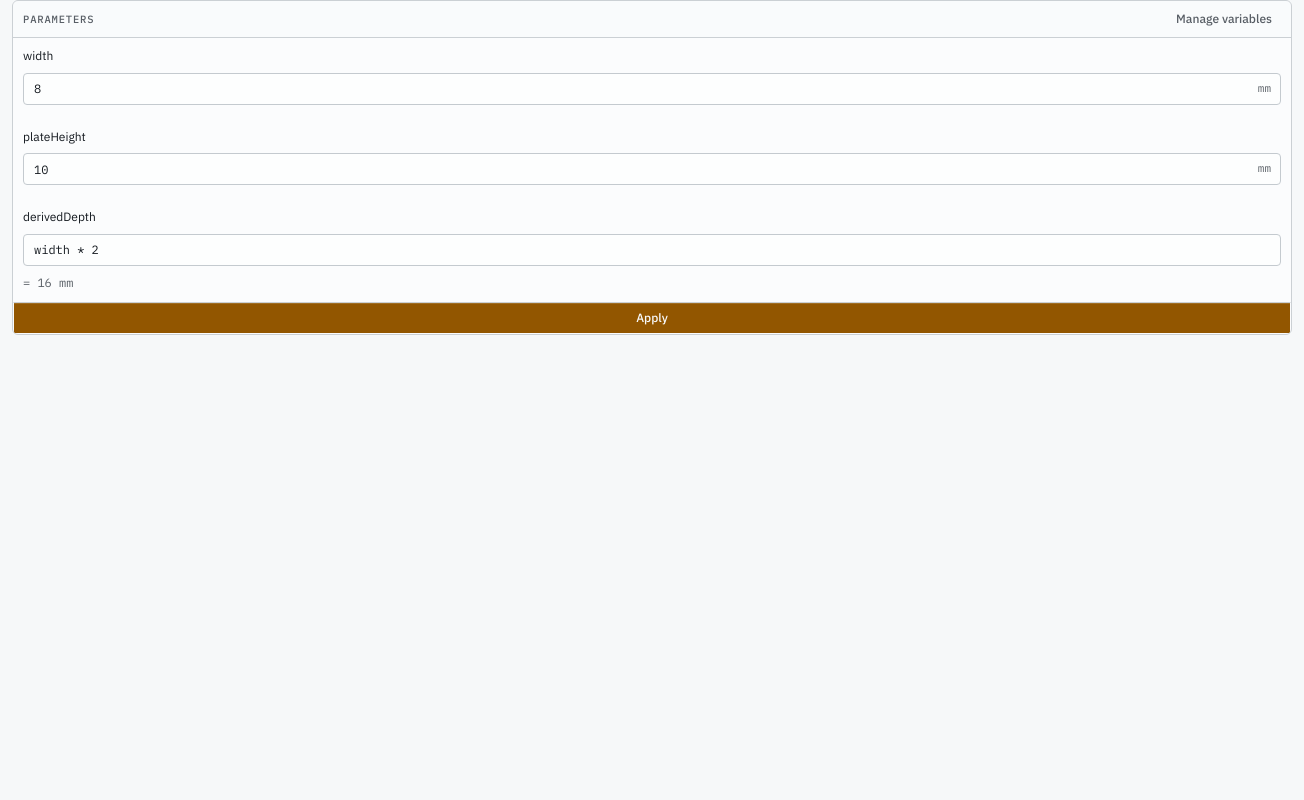
CadParameterManager expression editing › keeps a negated reference's sign through the pick (Phase 32b)
The width and height of the screenshot is (1304, 800).
Click the button "Manage variables": click(1224, 19) 1167,7 -> 1281,31
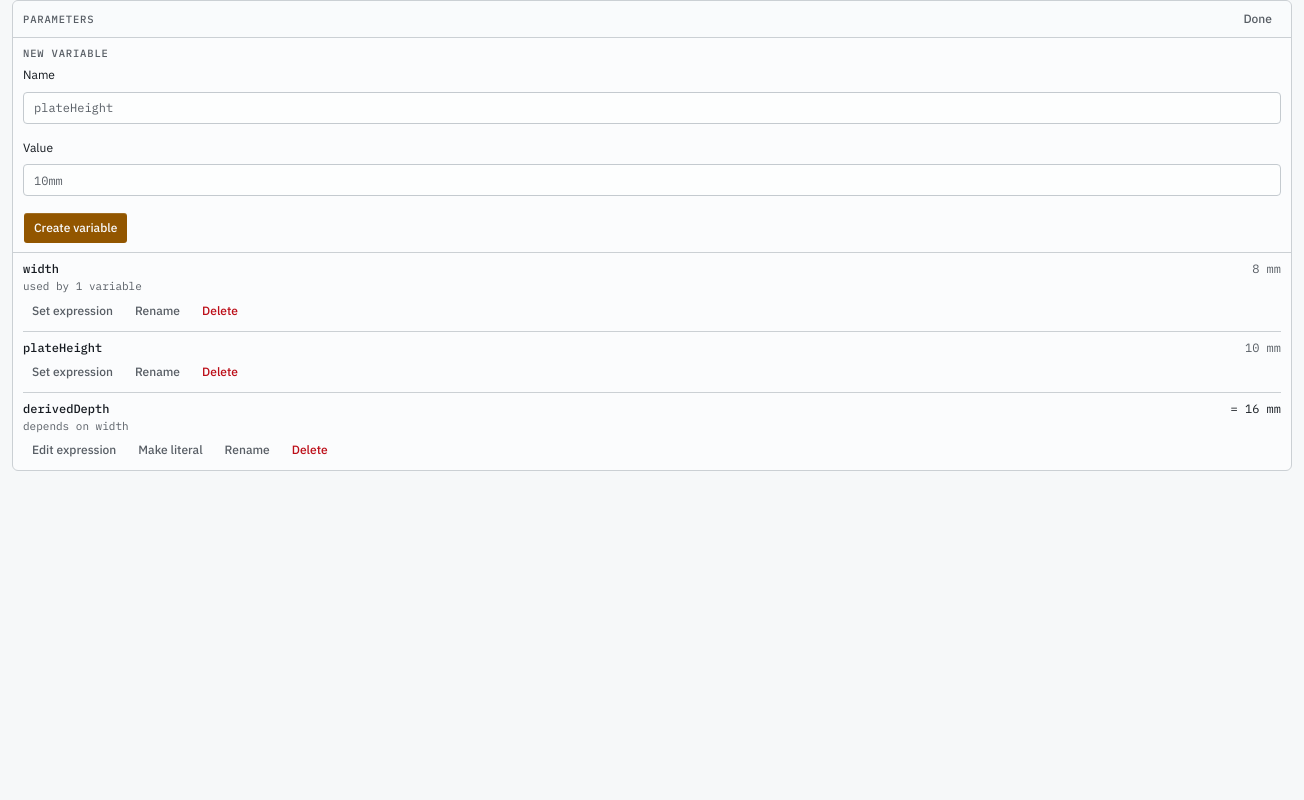
Click the button "Set expression" below "plateHeight": click(72, 372) 23,360 -> 122,384
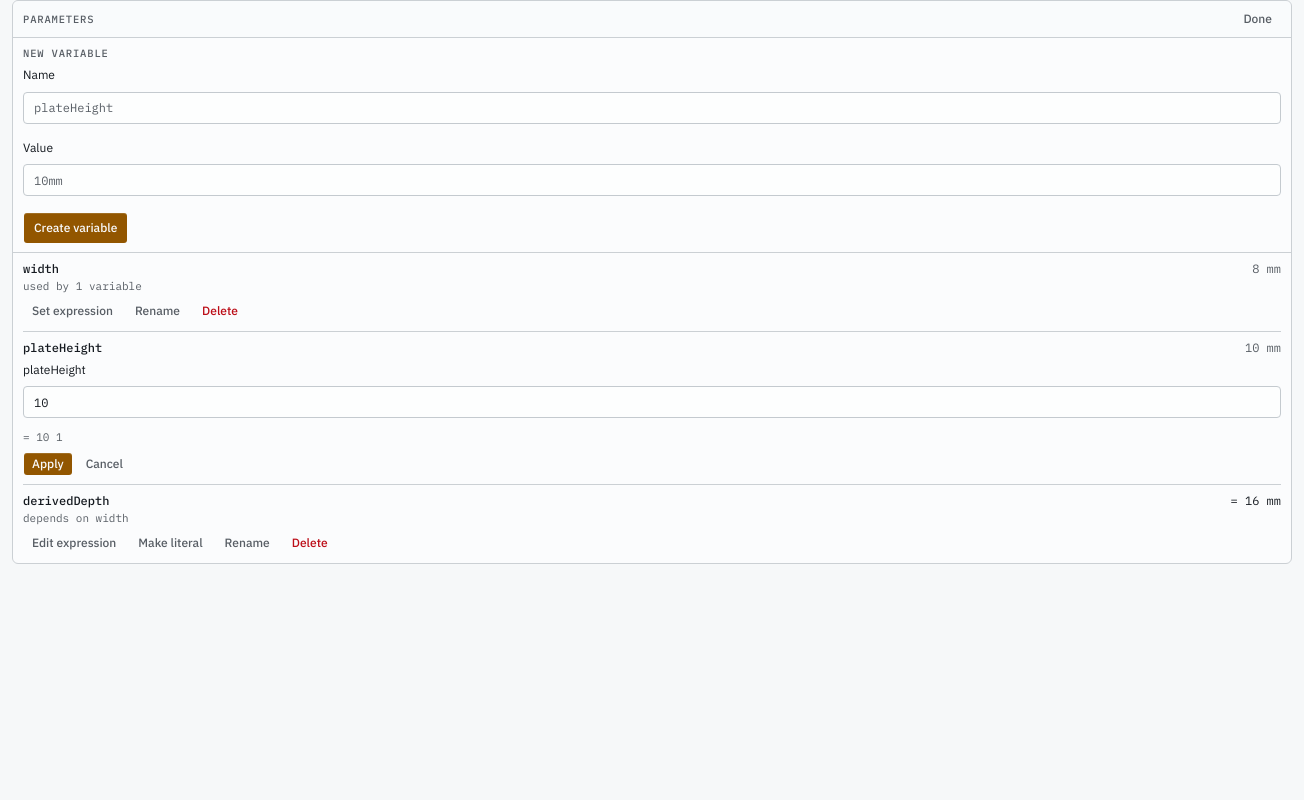
Replace the text in the dropdown labelled "plateHeight" with "-$w": (652, 402) 23,386 -> 1281,418
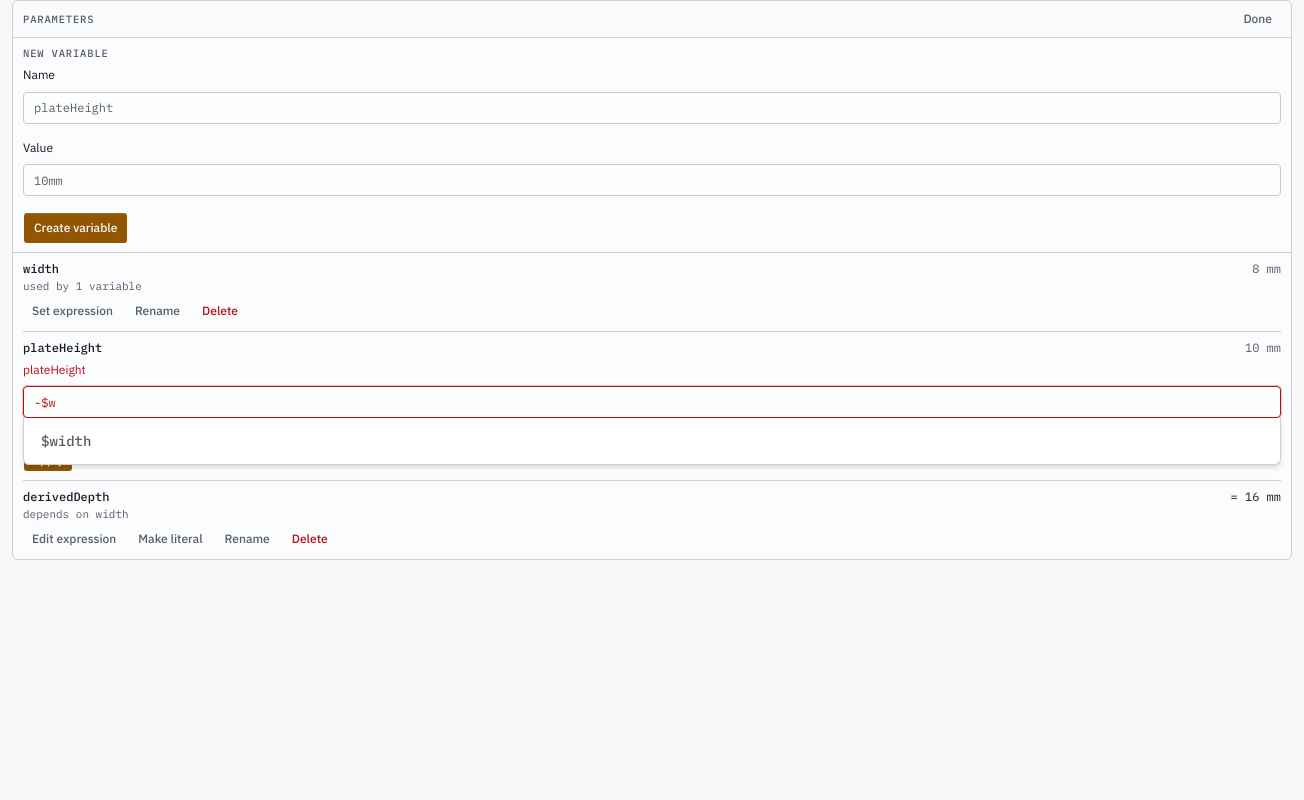
Check: the dropdown labelled "plateHeight" is expanded, box 23,386 -> 1281,418
Click the option "$width": click(66, 441) 28,422 -> 1276,460
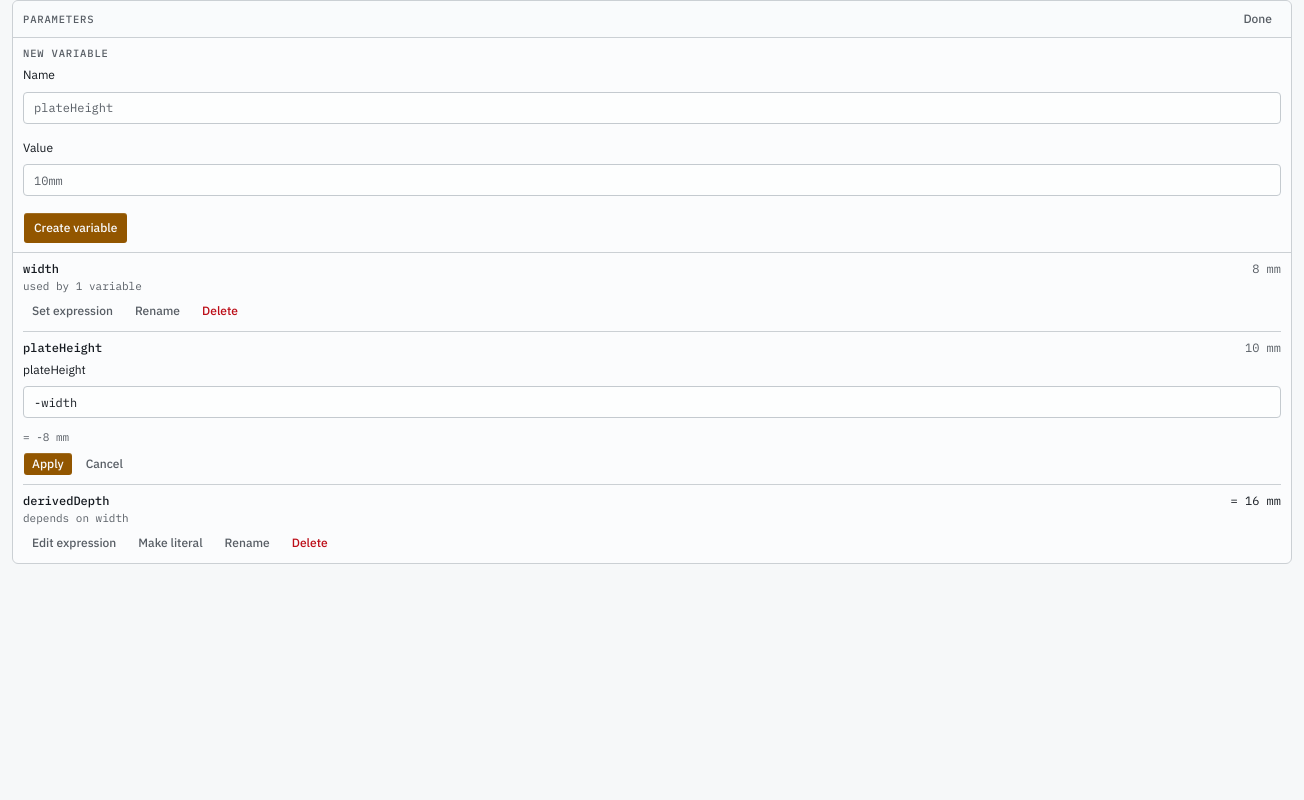
Check: the dropdown labelled "plateHeight" holds "-width", box 23,386 -> 1281,418
Check: the text "= -8 mm" is shown, box 23,430 -> 69,444
